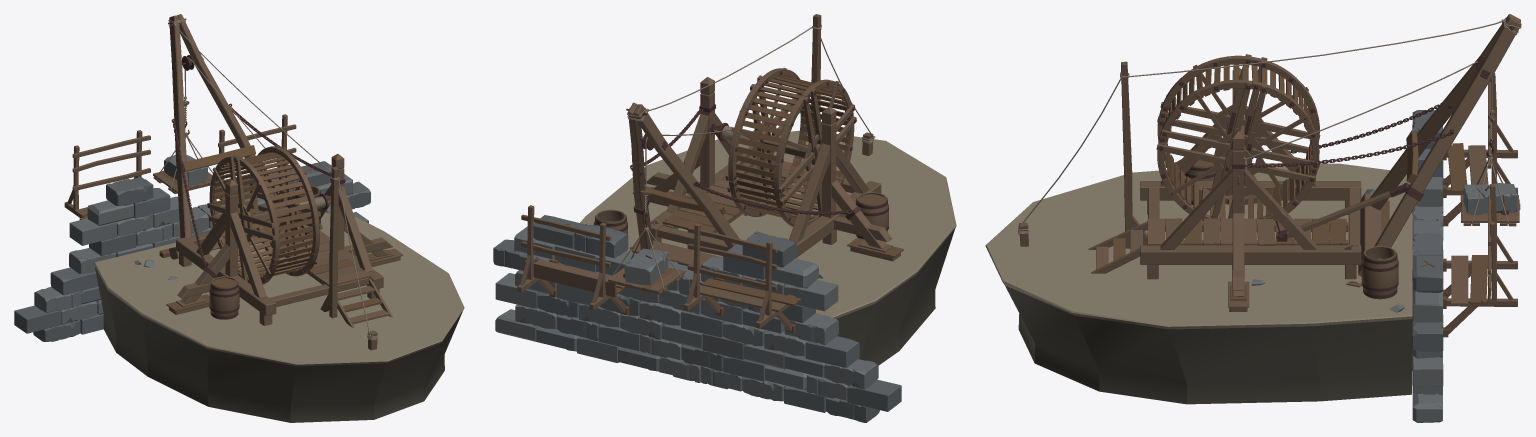
The picture shows the model from 3 angles, left to right: view 1: azimuth 30°, elevation 25°; view 2: azimuth 150°, elevation 25°; view 3: azimuth 270°, elevation 25°; orthographic projection. The views are drawn at different scales.
Parts seen in each view (by area): view 1: pCube225, pCube24, pCube6 (×2), pCube2 (×2), pCube23, pCube4 (×2), pCube94, Stone17, pCube224, pCube223, pCube222, Stone22 (+21 smaller); view 2: pCube225, pCube4 (×2), pCube216 (×3), Stone09 (×3), pCube5 (×2), pCube24, pCube165 (×3), pCube215 (×3), pCube218 (×3), pCube234 (×4), pCube166 (×3), Stone16 (×3) (+37 smaller); view 3: pCube225, pCube2 (×2), pCube23, pCube24, pCube216 (×2), pCube228 (×2), pCube94, pCylinder51, Stone10, pCube5, pCube6, pCube4 (+16 smaller).
Boxes of the visible parts, <box> form: pCube225: <box>94,205,464,422</box>; pCube24: <box>169,15,191,238</box>; pCube6 (×2): <box>230,186,372,298</box>; pCube2 (×2): <box>176,230,383,316</box>; pCube23: <box>177,14,277,208</box>; pCube4 (×2): <box>225,154,344,276</box>; pCube94: <box>329,167,338,318</box>; Stone17: <box>106,177,153,205</box>; pCube224: <box>14,305,61,333</box>; pCube223: <box>50,267,97,295</box>; pCube222: <box>69,218,116,245</box>; Stone22: <box>34,287,81,312</box>; pCube225: <box>580,130,956,365</box>; pCube4 (×2): <box>700,77,836,217</box>; pCube216 (×3): <box>495,215,825,377</box>; Stone09 (×3): <box>493,239,806,356</box>; pCube5 (×2): <box>667,114,830,242</box>; pCube24: <box>633,104,739,249</box>; pCube165 (×3): <box>555,245,745,362</box>; pCube215 (×3): <box>514,226,784,369</box>; pCube218 (×3): <box>556,283,765,381</box>; pCube234 (×4): <box>527,205,772,315</box>; pCube166 (×3): <box>596,251,702,371</box>; Stone16 (×3): <box>598,289,723,371</box>; pCube225: <box>985,163,1412,404</box>; pCube2 (×2): <box>1140,181,1361,264</box>; pCube23: <box>1374,17,1521,247</box>; pCube24: <box>1369,14,1520,210</box>; pCube216 (×2): <box>1412,255,1442,422</box>; pCube228 (×2): <box>1447,143,1487,304</box>; pCube94: <box>1121,61,1132,248</box>; pCylinder51: <box>1361,246,1398,299</box>; Stone10: <box>1463,183,1517,214</box>; pCube5: <box>1244,168,1317,249</box>; pCube6: <box>1160,169,1232,249</box>; pCube4: <box>1232,131,1244,213</box>.
Bounding box in the file's own units: 1078 × 771 × 1182.
